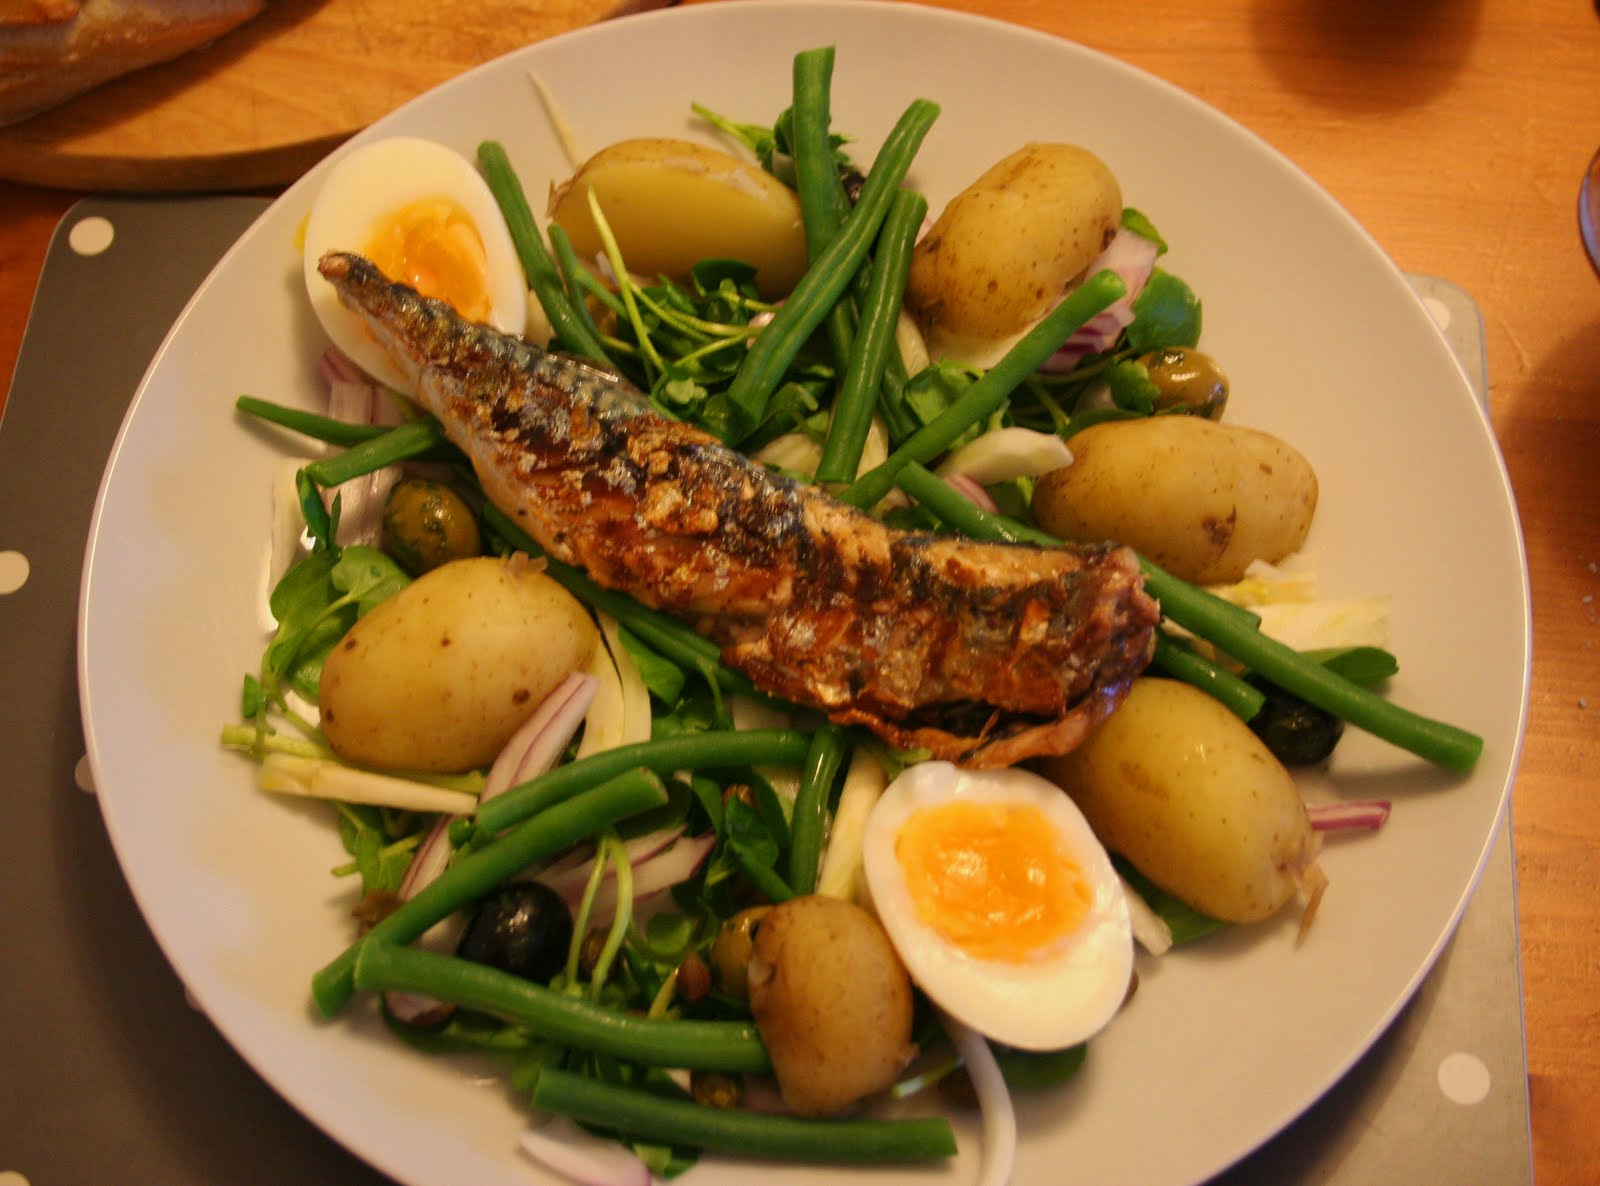boiled potatoes: (1100, 701, 1348, 901), (300, 581, 624, 725), (976, 414, 1340, 533), (568, 125, 784, 269), (731, 913, 888, 1109), (956, 161, 1131, 289)
fried egg: (920, 769, 1117, 1056)
